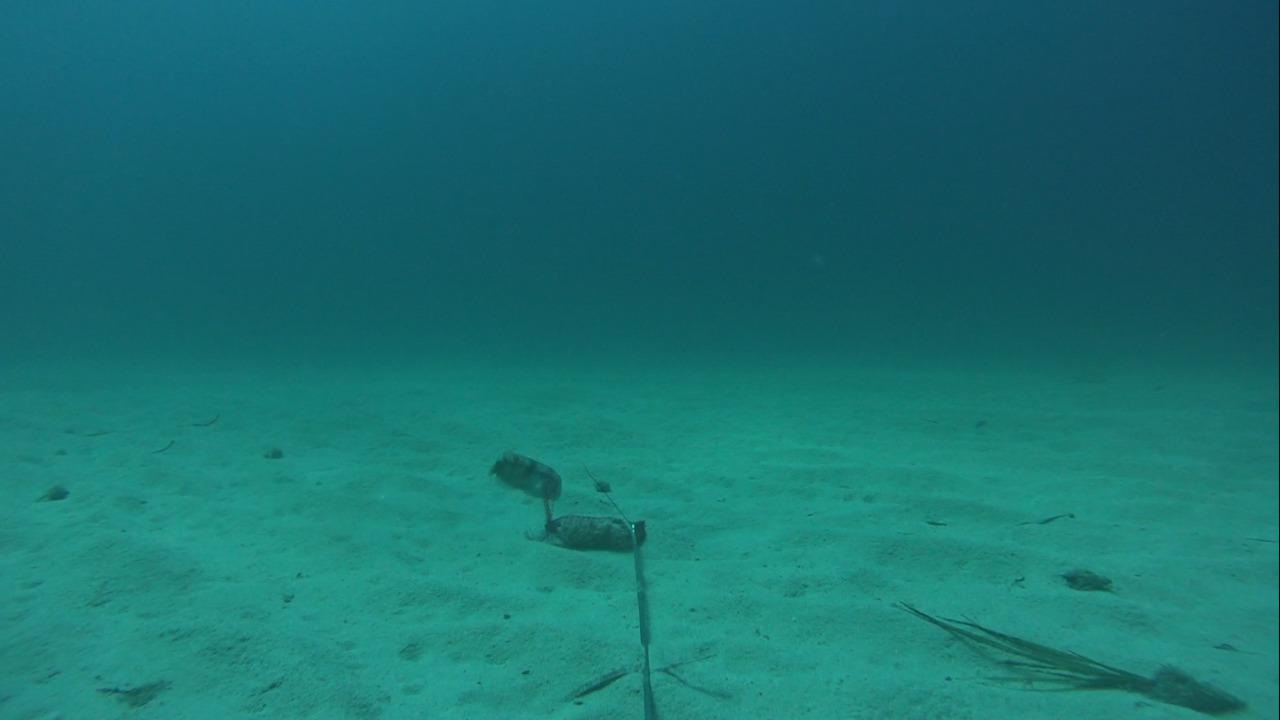raor: (485, 449, 568, 501)
